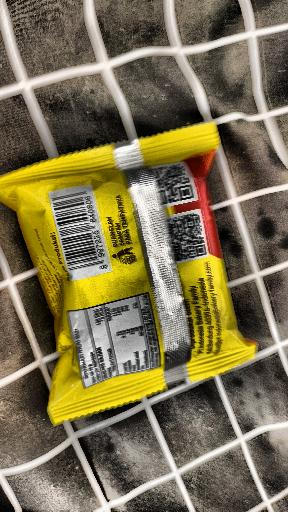momotaro: (0, 58, 268, 448)
